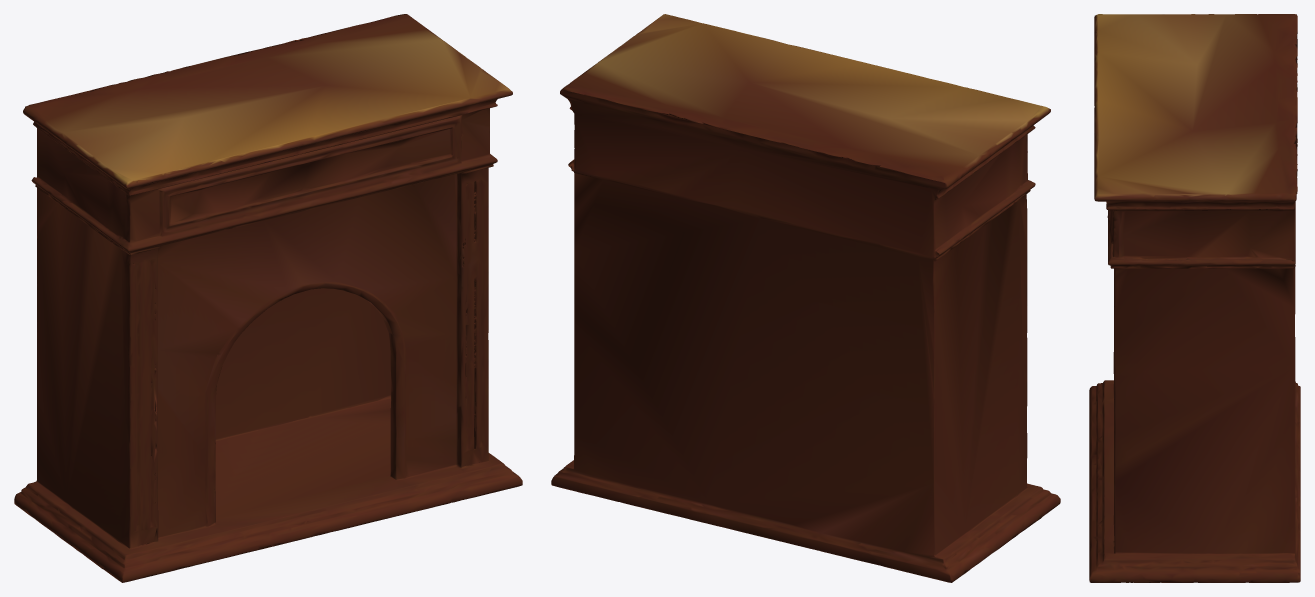
The model's file is mantel.glb.
3 renders of one model, left to right at view 1: azimuth 30°, elevation 25°; view 2: azimuth 150°, elevation 25°; view 3: azimuth 270°, elevation 25°, orthographic. The views are drawn at different scales.
Bounding box in the file's own units: 0.9981 × 0.9464 × 0.47.
